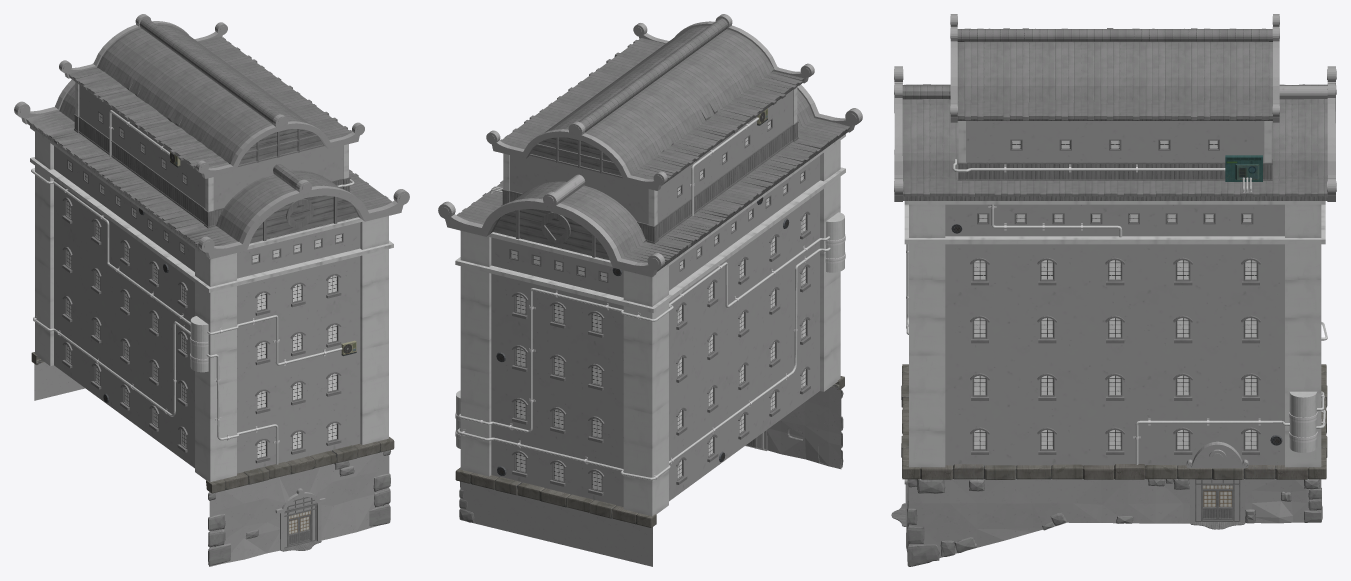
File: konohavill_AreaA_Building_A.fbx
The picture shows the model from 3 angles, left to right: view 1: azimuth 30°, elevation 25°; view 2: azimuth 150°, elevation 25°; view 3: azimuth 270°, elevation 25°; orthographic projection. The views are drawn at different scales.
Visible parts, largest first — view 1: SM_ENV_KNVLLG_AreaA_Building_A.mo, SM_ENV_KNVLLG_AreaA_Building_A_BaseWall.mo; view 2: SM_ENV_KNVLLG_AreaA_Building_A.mo, SM_ENV_KNVLLG_AreaA_Building_A_BaseWall.mo; view 3: SM_ENV_KNVLLG_AreaA_Building_A.mo, SM_ENV_KNVLLG_AreaA_Building_A_BaseWall.mo.
Boxes of the visible parts, x1,y1,x2,y2 form: SM_ENV_KNVLLG_AreaA_Building_A.mo: (14,14,409,481); SM_ENV_KNVLLG_AreaA_Building_A_BaseWall.mo: (31,352,394,566); SM_ENV_KNVLLG_AreaA_Building_A.mo: (438,14,862,516); SM_ENV_KNVLLG_AreaA_Building_A_BaseWall.mo: (455,376,844,566); SM_ENV_KNVLLG_AreaA_Building_A.mo: (894,14,1336,468); SM_ENV_KNVLLG_AreaA_Building_A_BaseWall.mo: (891,364,1327,566).
Size of the model in its own units: 2327 by 4442 by 3669.
